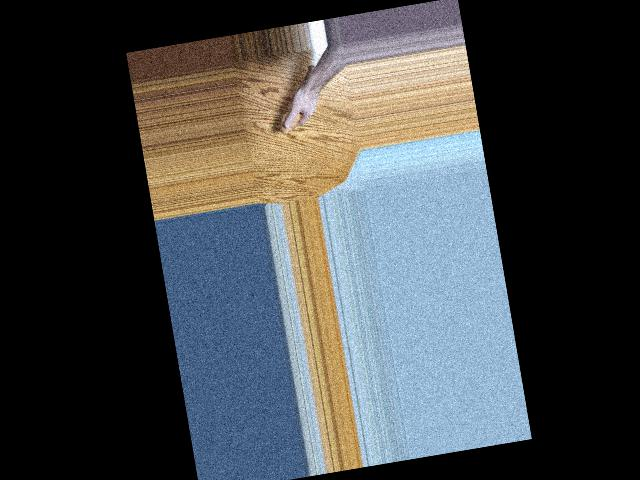sweet_potato: (269, 63, 324, 136)
